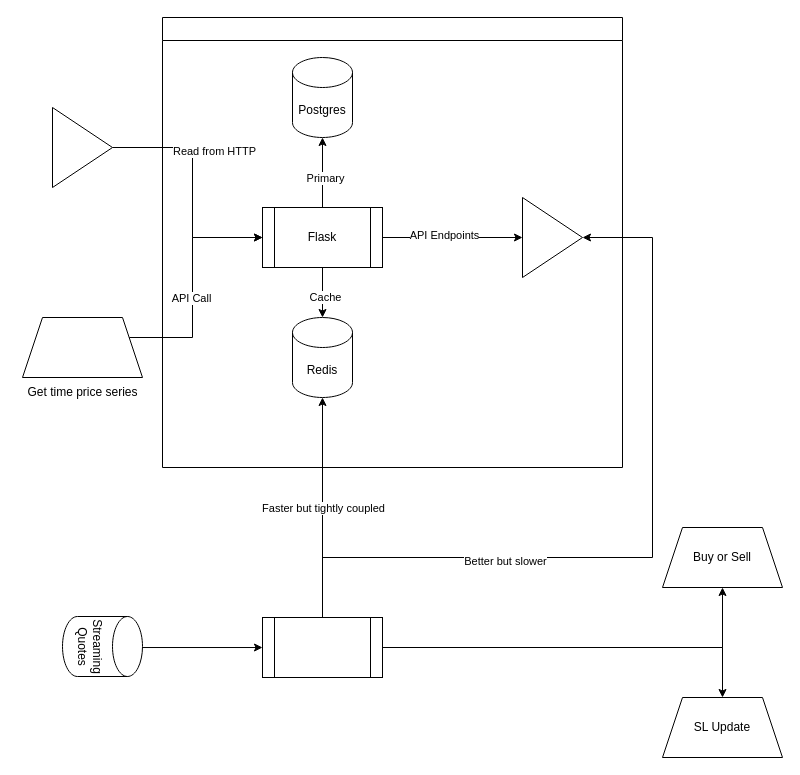
Some shapes in this 800 by 775 pixel diagram are drawn without their labels. Each missing label, with the centre of its shape:
Broker: [82,147]
Online App: [392,242]
Python: [322,647]
